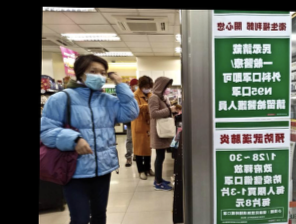with_mask: (82, 65, 107, 92), (139, 85, 152, 94), (163, 83, 171, 95), (132, 82, 139, 91)
